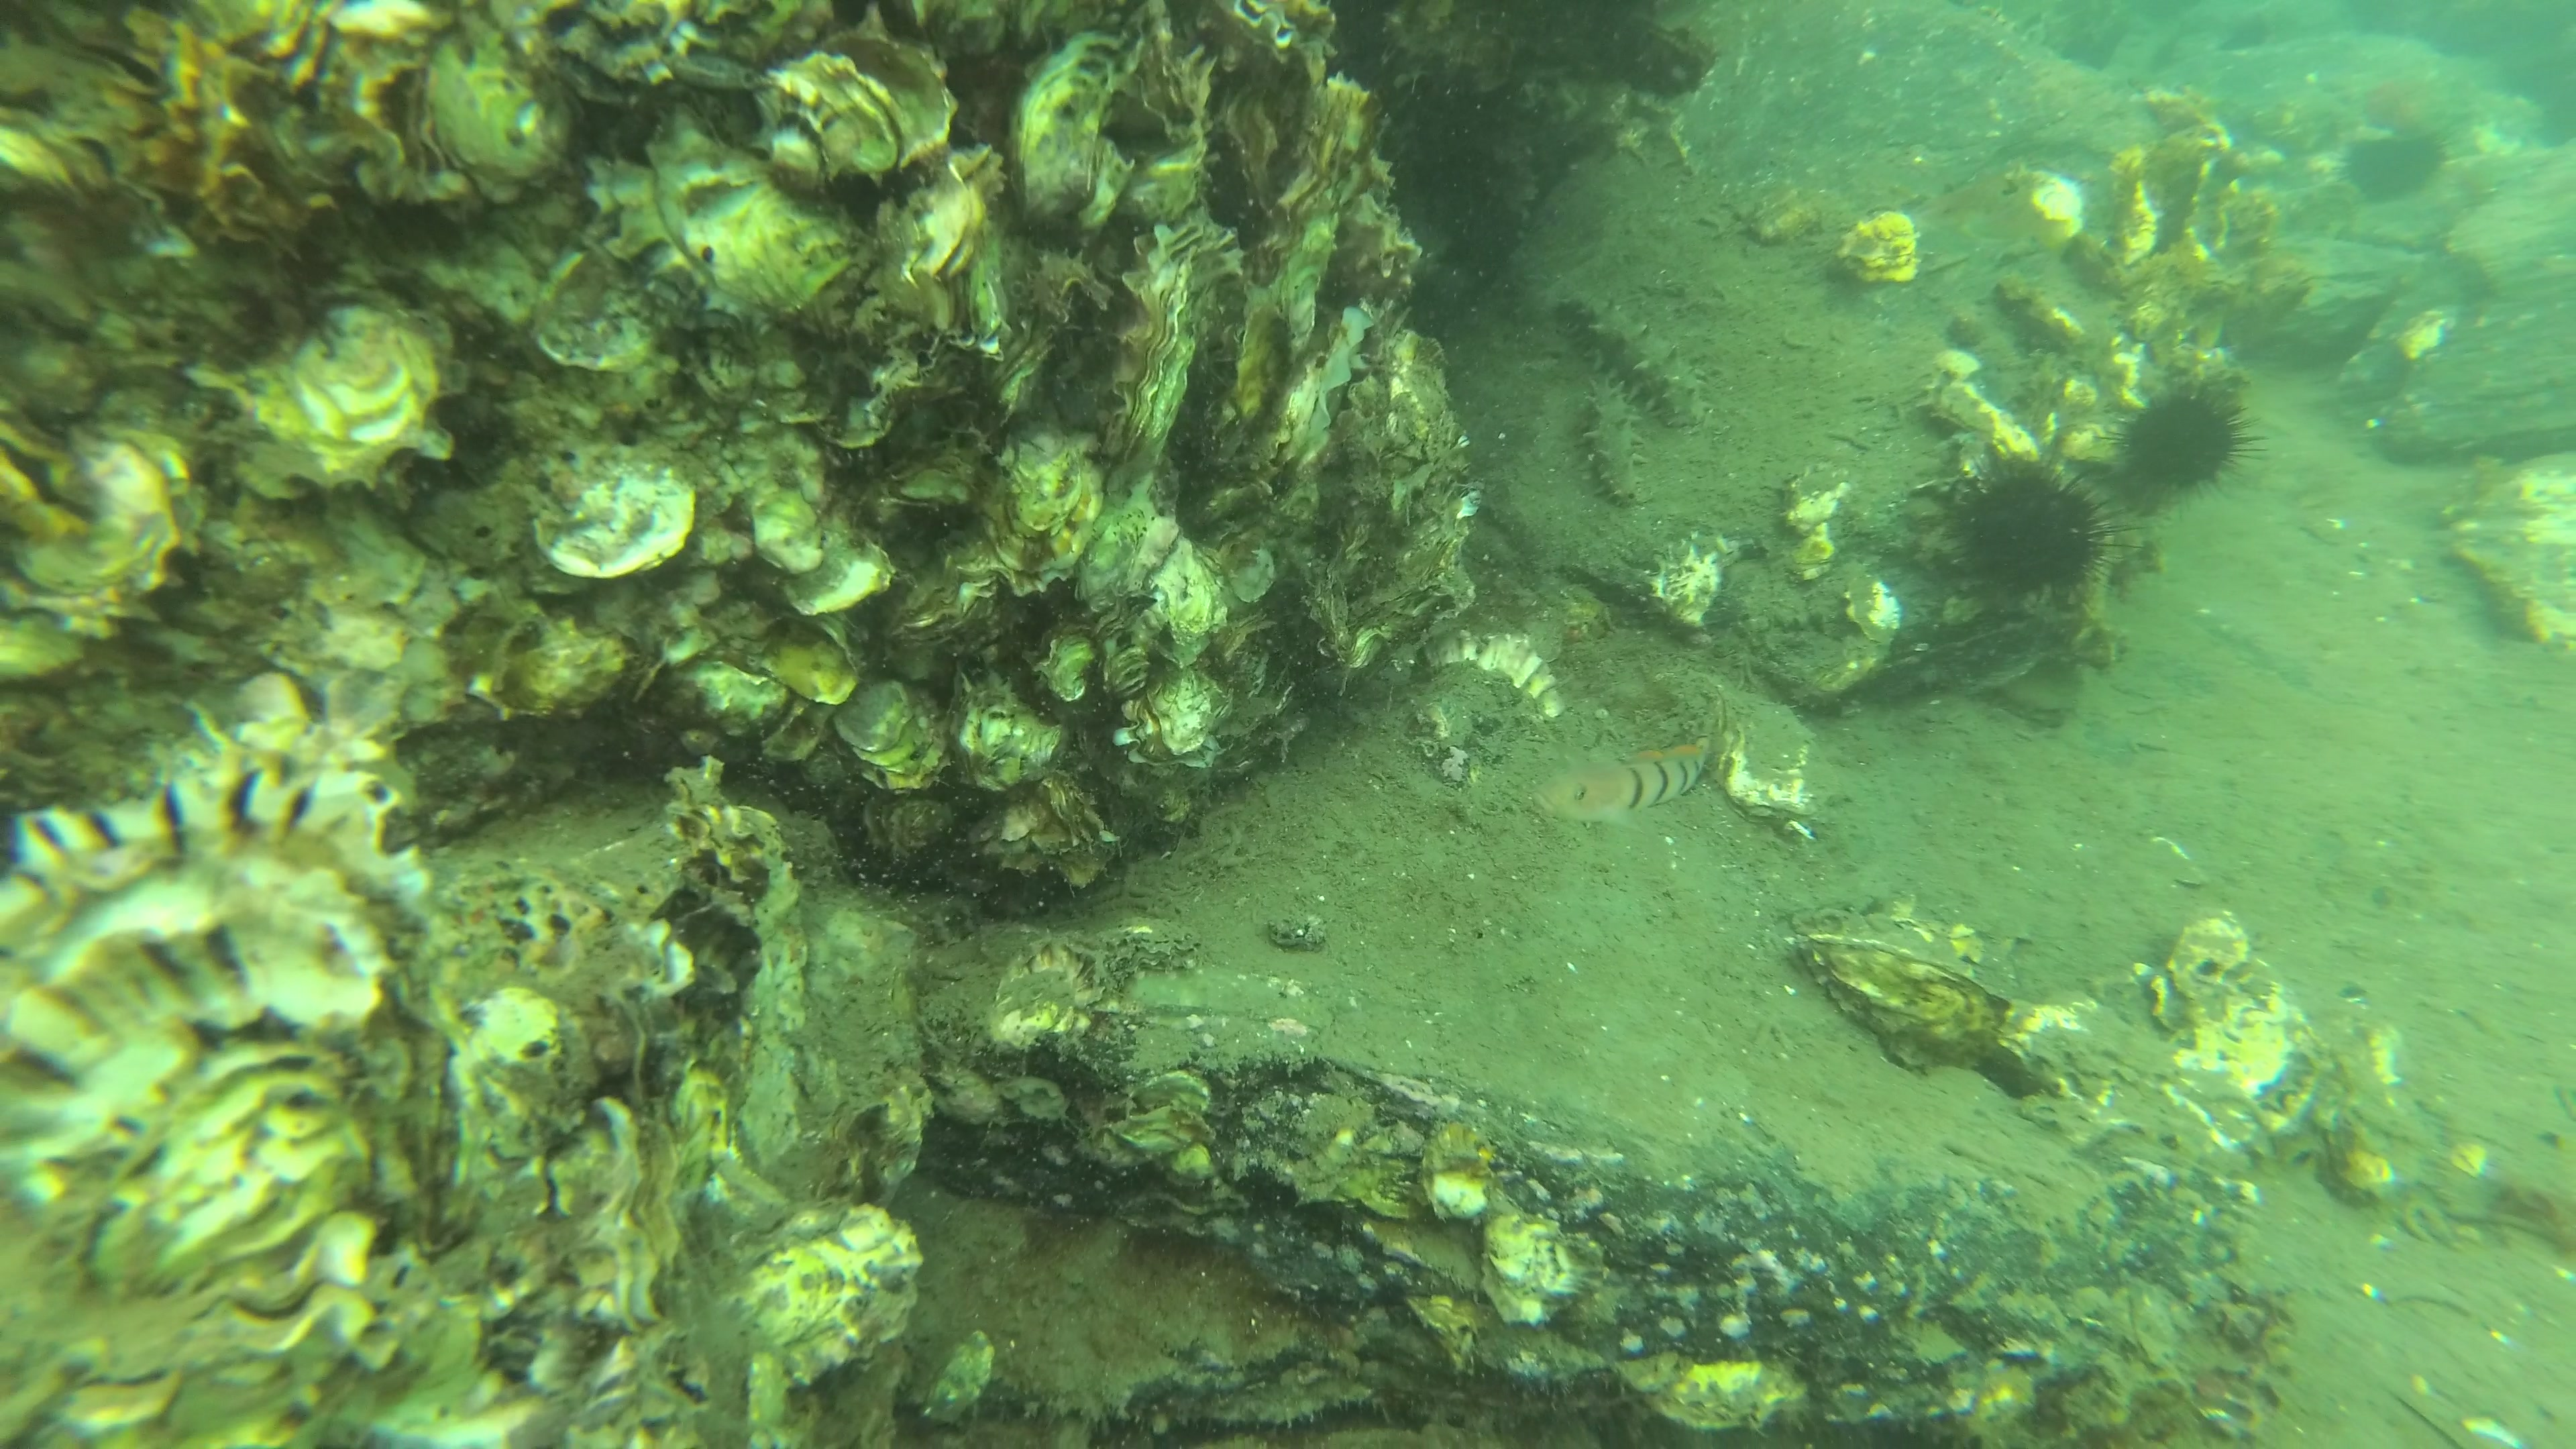echinus: (1939, 451, 2134, 616), (2112, 373, 2275, 506)
holothurian: (1555, 297, 1702, 432), (1576, 372, 1651, 508)
